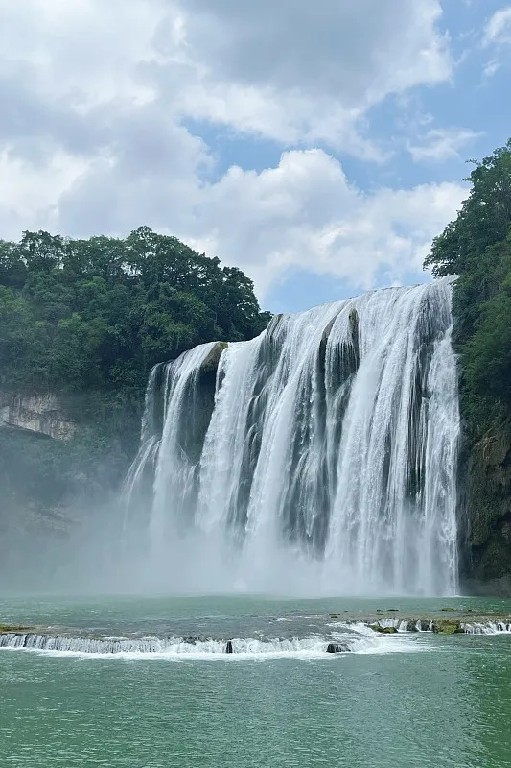Huangguoshu: (133, 274, 462, 599)
